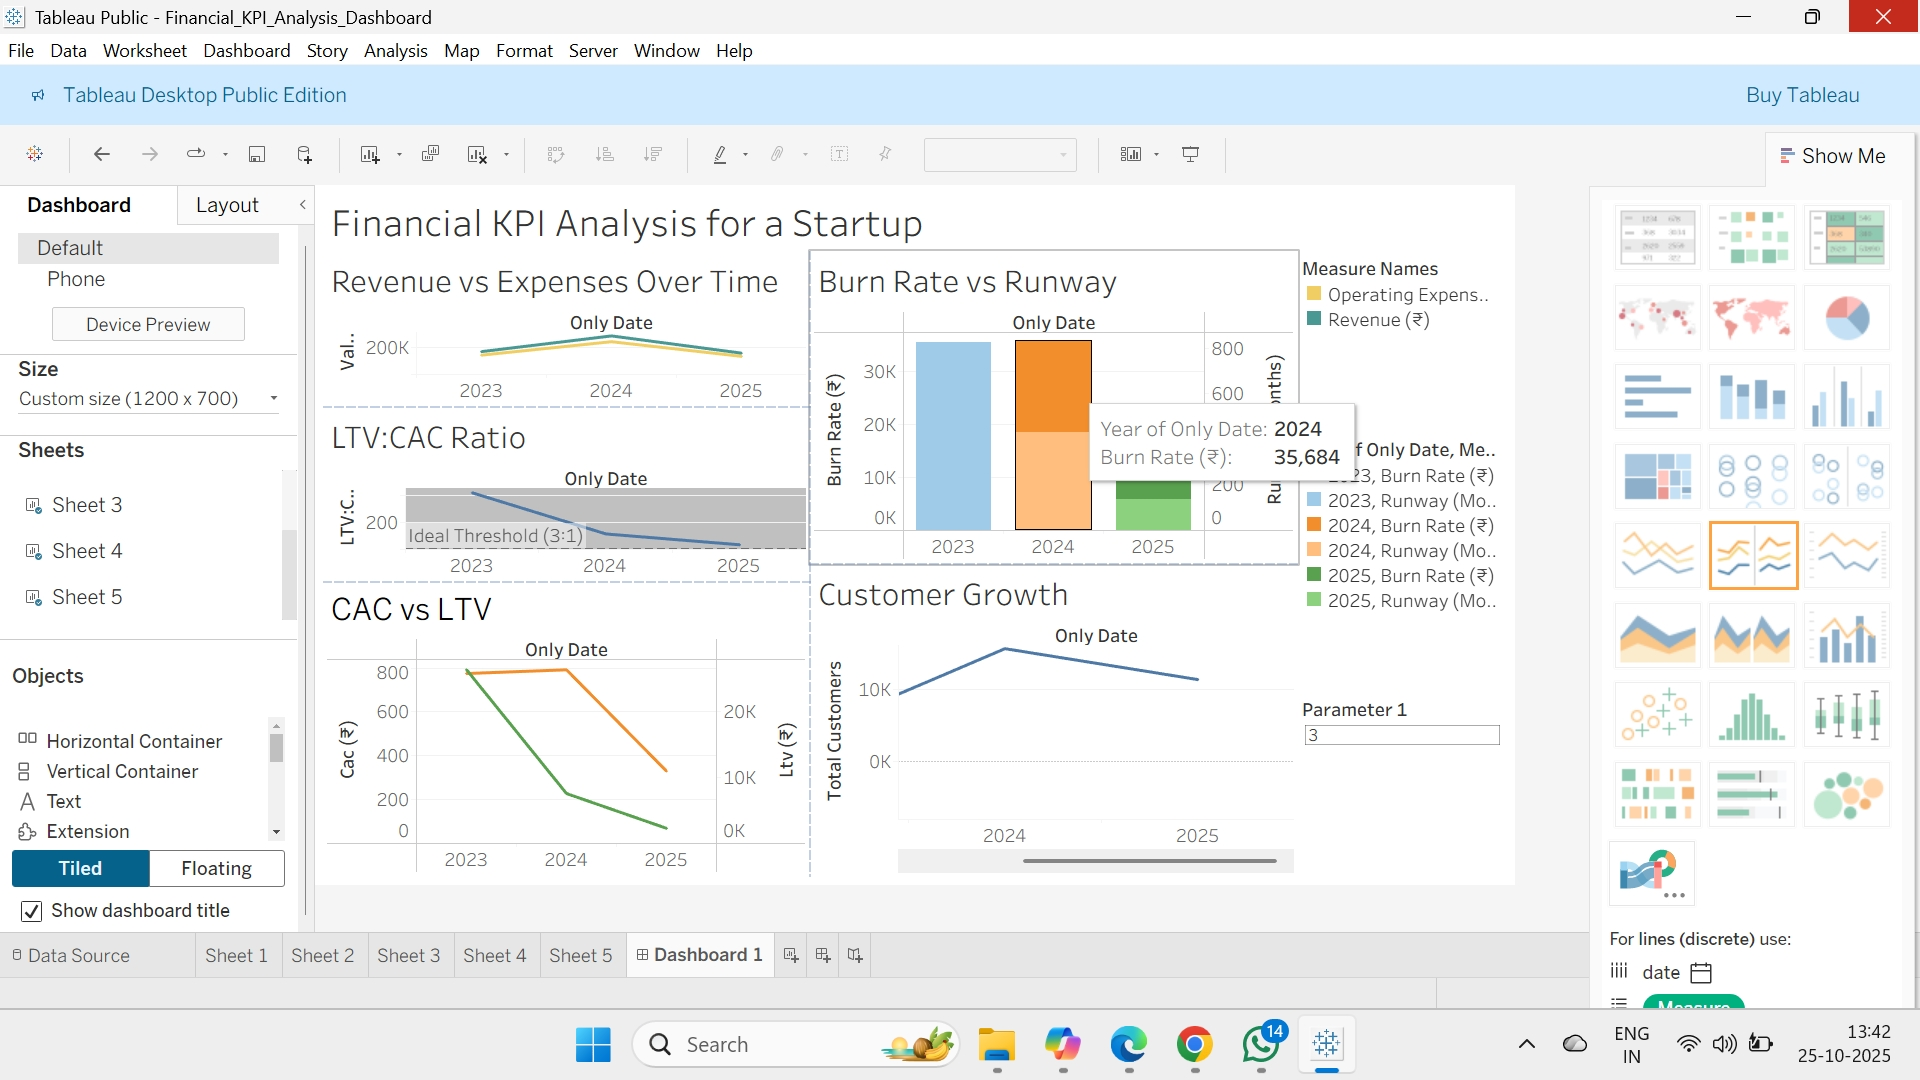

The dashboard page shown, as its layout file describes it:
{"tool":"tableau","page":{"name":"Dashboard 1","canvas":[1200,700],"ordinal":0},"visuals":[{"type":"title","box":[8,8,1184,58]},{"type":"worksheet","title":"Sheet 1","mark":"Automatic","cols":["Only Date"],"box":[8,66,487.4,156.5]},{"type":"worksheet","title":"Sheet 3","mark":"Bar","rows":["Burn Rate (₹)","Runway (Months)"],"cols":["Only Date"],"box":[495.4,66,487.6,313]},{"type":"legend","title":"Sheet 1","param":"[federated.03j3kmv05yj77o14gxv4c1spcrk3].[:Measure Names]","box":[983,66,209,181]},{"type":"worksheet","title":"Sheet 5","mark":"Automatic","rows":["Calculation_711568808902447104"],"cols":["Only Date"],"box":[8,222.5,487.4,174.5]},{"type":"legend","title":"Sheet 3","param":"[federated.03j3kmv05yj77o14gxv4c1spcrk3].[yr:Only Date:ok]\n[federated.03j3kmv05y","box":[983,247,209,260]},{"type":"worksheet","title":"Sheet 4","mark":"Automatic","rows":["Total Customers"],"cols":["Only Date"],"box":[495.4,379,487.6,313]},{"type":"worksheet","title":"Sheet 2","mark":"Automatic","rows":["CAC (₹)","LTV (₹)"],"cols":["Only Date"],"box":[8,397,487.4,295]},{"type":"parameter","param":"[Parameters].[Parameter 1]","box":[983,507,209,60]}]}

Visuals, with their boxes on the page's 1200x700 design canvas (x1, y1, x2, y2). These are canvas units, not pixel positions in the 1920x1080 screenshot, which may show the page scaled, cropped or inside an application window:
title: left=8, top=8, right=1192, bottom=66
"Sheet 1" worksheet: left=8, top=66, right=495, bottom=222
"Sheet 3" worksheet (Bar marks): left=495, top=66, right=983, bottom=379
"Sheet 1" legend: left=983, top=66, right=1192, bottom=247
"Sheet 5" worksheet: left=8, top=222, right=495, bottom=397
"Sheet 3" legend: left=983, top=247, right=1192, bottom=507
"Sheet 4" worksheet: left=495, top=379, right=983, bottom=692
"Sheet 2" worksheet: left=8, top=397, right=495, bottom=692
parameter: left=983, top=507, right=1192, bottom=567
